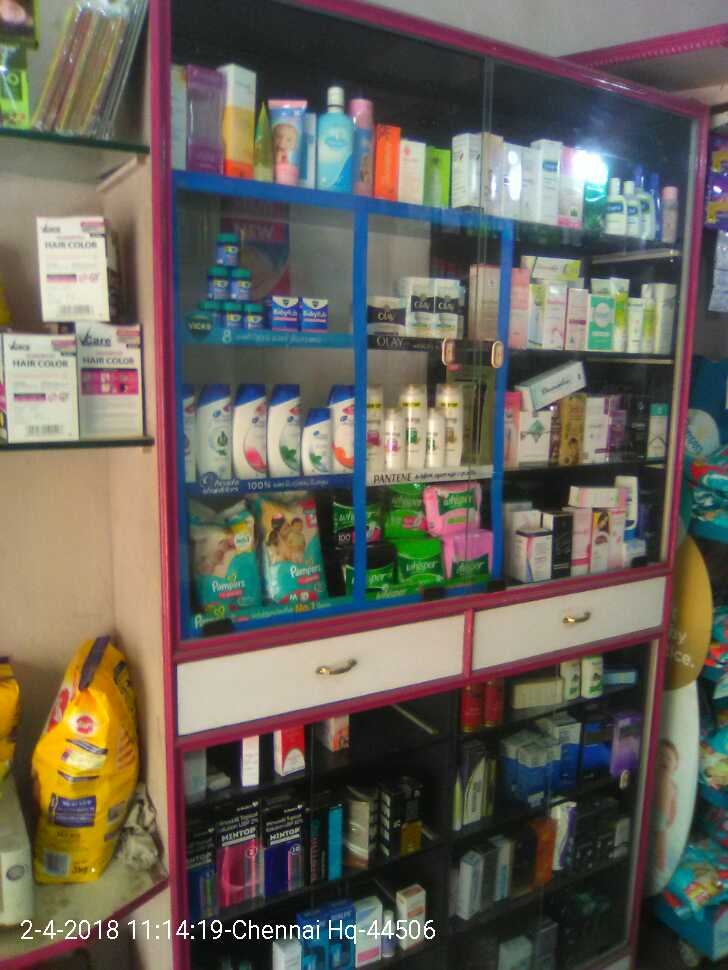vicks: (196, 230, 267, 329), (270, 297, 330, 329)
